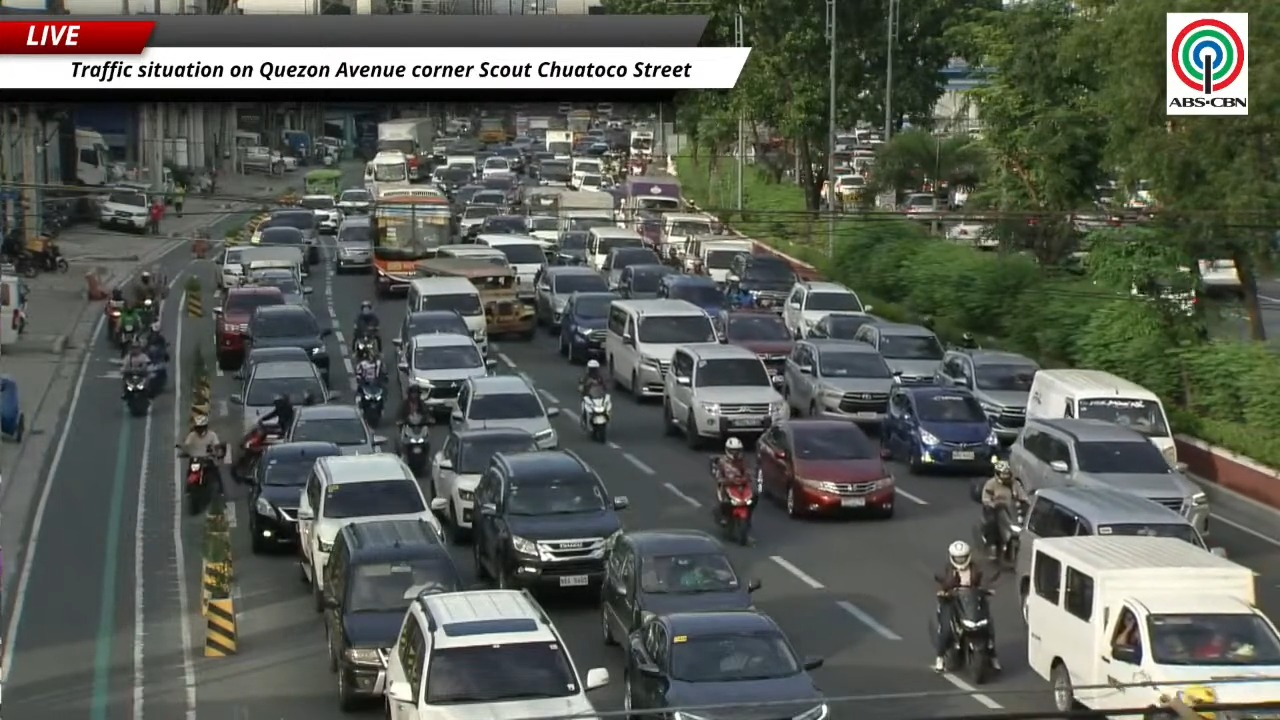bus: (371, 196, 452, 296), (364, 151, 411, 198), (566, 109, 592, 142), (478, 117, 508, 143)
car: (386, 589, 608, 719), (323, 520, 462, 710), (1009, 418, 1209, 533), (297, 453, 442, 611), (624, 611, 828, 719), (472, 450, 627, 587), (601, 529, 760, 643), (756, 418, 894, 517), (664, 343, 788, 448), (431, 428, 537, 537), (881, 382, 999, 472), (248, 442, 341, 553), (936, 348, 1039, 443), (784, 338, 893, 425), (397, 333, 495, 419), (450, 375, 559, 449), (229, 361, 331, 430), (246, 304, 331, 384), (213, 287, 285, 370), (714, 310, 793, 384), (854, 323, 944, 384), (476, 233, 550, 303), (285, 404, 386, 455), (535, 266, 608, 331), (783, 282, 866, 338), (558, 291, 617, 363), (724, 253, 796, 311), (391, 310, 476, 356), (260, 209, 319, 264), (656, 274, 725, 315), (601, 247, 660, 288), (235, 347, 309, 379), (248, 268, 311, 305), (99, 186, 149, 232), (616, 264, 678, 298), (335, 215, 371, 272), (808, 312, 879, 339), (298, 194, 342, 234), (251, 225, 308, 255), (437, 244, 509, 266), (458, 204, 503, 236), (215, 246, 247, 290), (451, 181, 484, 217), (557, 230, 589, 265), (899, 194, 941, 220), (521, 215, 559, 243), (433, 166, 472, 192), (480, 172, 518, 198), (477, 215, 526, 234), (338, 189, 372, 215), (537, 159, 571, 185), (469, 188, 509, 209), (497, 146, 523, 172), (481, 156, 511, 176)
motorcycle: (940, 586, 993, 684), (711, 458, 757, 545), (975, 503, 1026, 568), (180, 444, 224, 515), (232, 423, 281, 482), (718, 483, 755, 545), (996, 503, 1025, 568), (399, 418, 429, 476), (580, 389, 611, 442), (31, 238, 68, 272), (123, 372, 151, 416), (357, 383, 384, 427), (114, 308, 141, 349), (148, 348, 168, 397), (8, 249, 38, 278), (104, 299, 124, 341), (352, 329, 380, 358)
truck: (1021, 535, 1279, 716), (377, 118, 433, 181), (75, 128, 111, 185), (280, 129, 314, 164), (545, 130, 572, 160), (566, 110, 592, 140), (629, 130, 655, 158), (528, 116, 551, 133)
